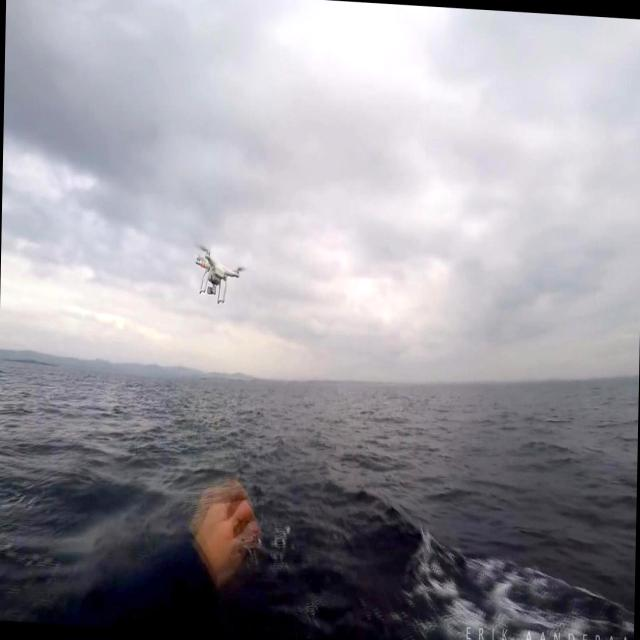drone: (191, 242, 243, 309)
